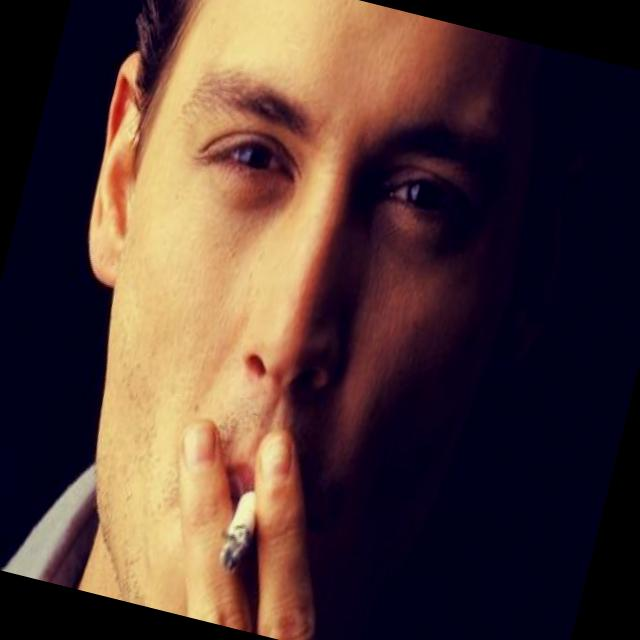cigarette: (213, 484, 268, 576)
